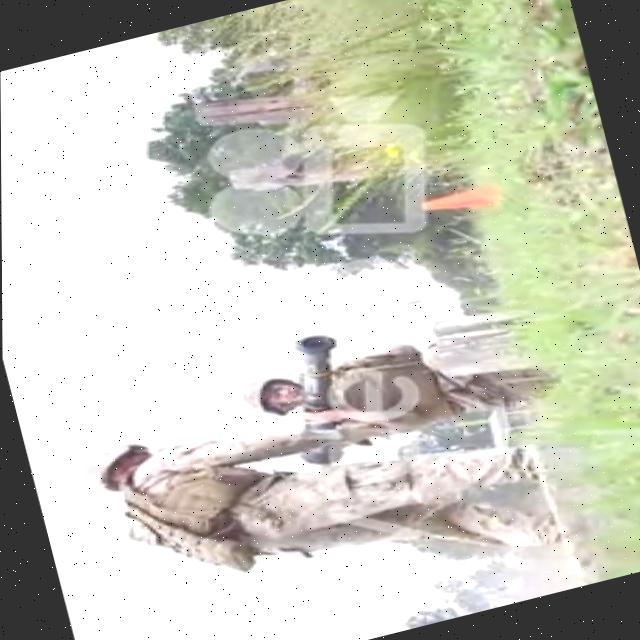rocket: (263, 324, 365, 474)
